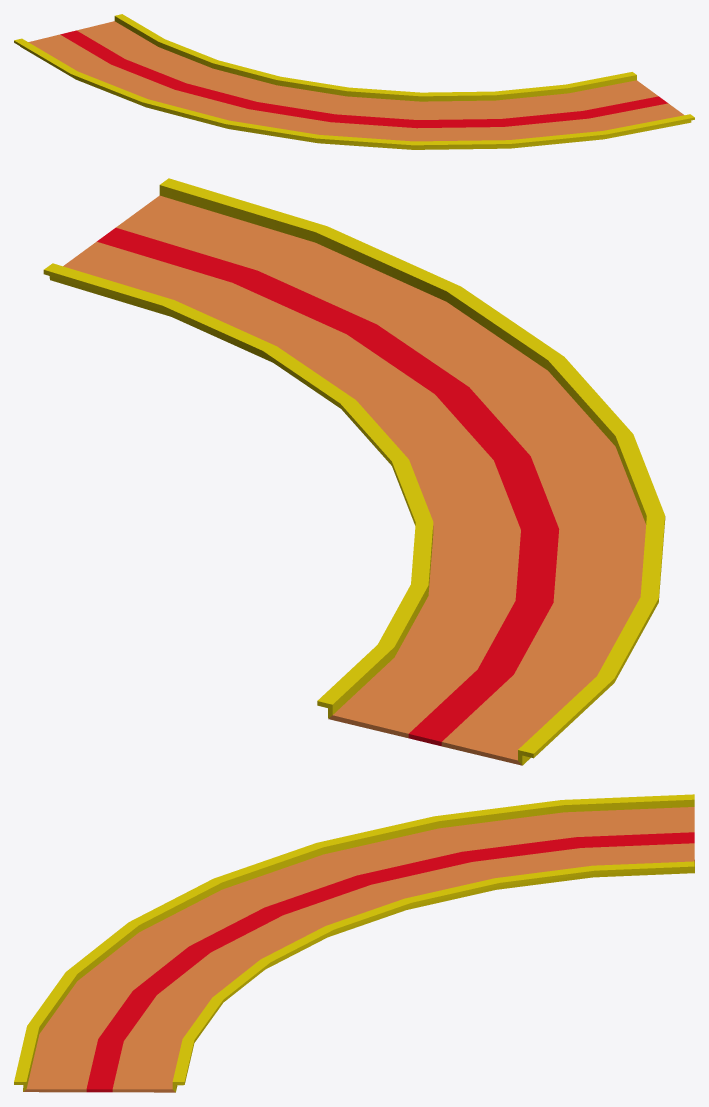
File: Turn3.fbx
The picture shows the model from 3 angles, top to bottom: view 1: azimuth 30°, elevation 25°; view 2: azimuth 150°, elevation 25°; view 3: azimuth 270°, elevation 25°; orthographic projection. The views are drawn at different scales.
Visible parts, largest first — view 1: Turn3; view 2: Turn3; view 3: Turn3.
Boxes of the visible parts, <box> form: Turn3: <box>14,14,694,149</box>; Turn3: <box>43,178,665,765</box>; Turn3: <box>14,794,694,1092</box>.
Size of the model in its own units: 800 by 13.46 by 800.
